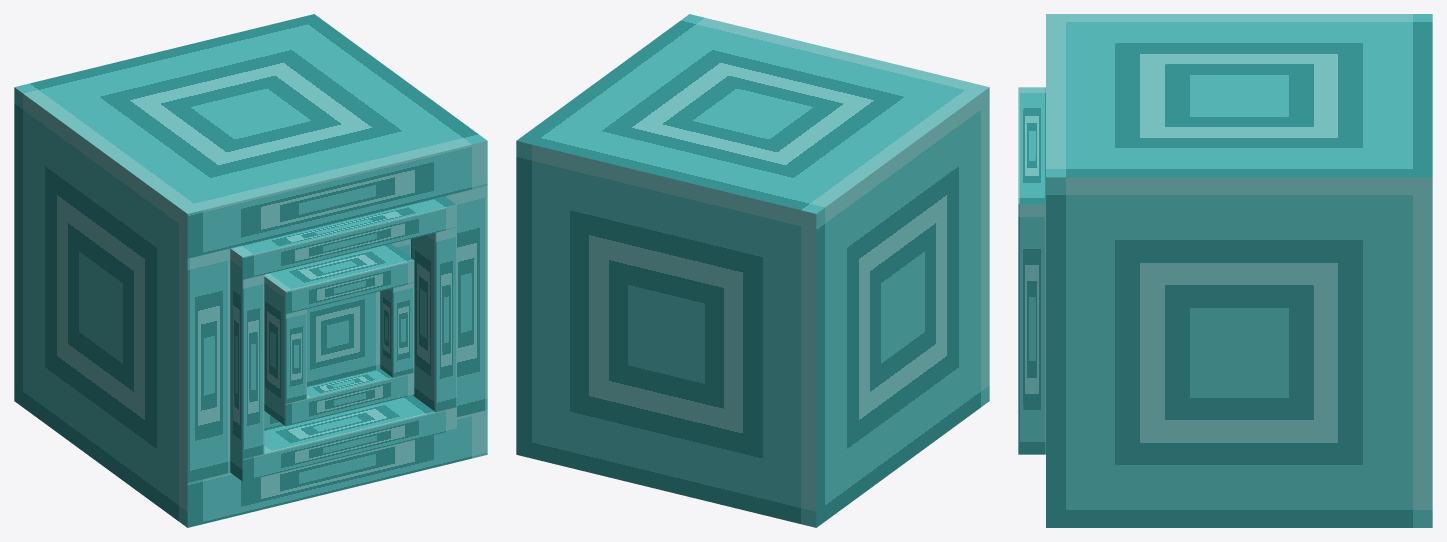
Rendered from BlockMonster.obj.
The picture shows the model from 3 angles, left to right: view 1: azimuth 30°, elevation 25°; view 2: azimuth 150°, elevation 25°; view 3: azimuth 270°, elevation 25°; orthographic projection. The views are drawn at different scales.
Bounding box in the file's own units: 0.875 × 0.875 × 0.9375.
Materials: 1 (1 with a texture image).
